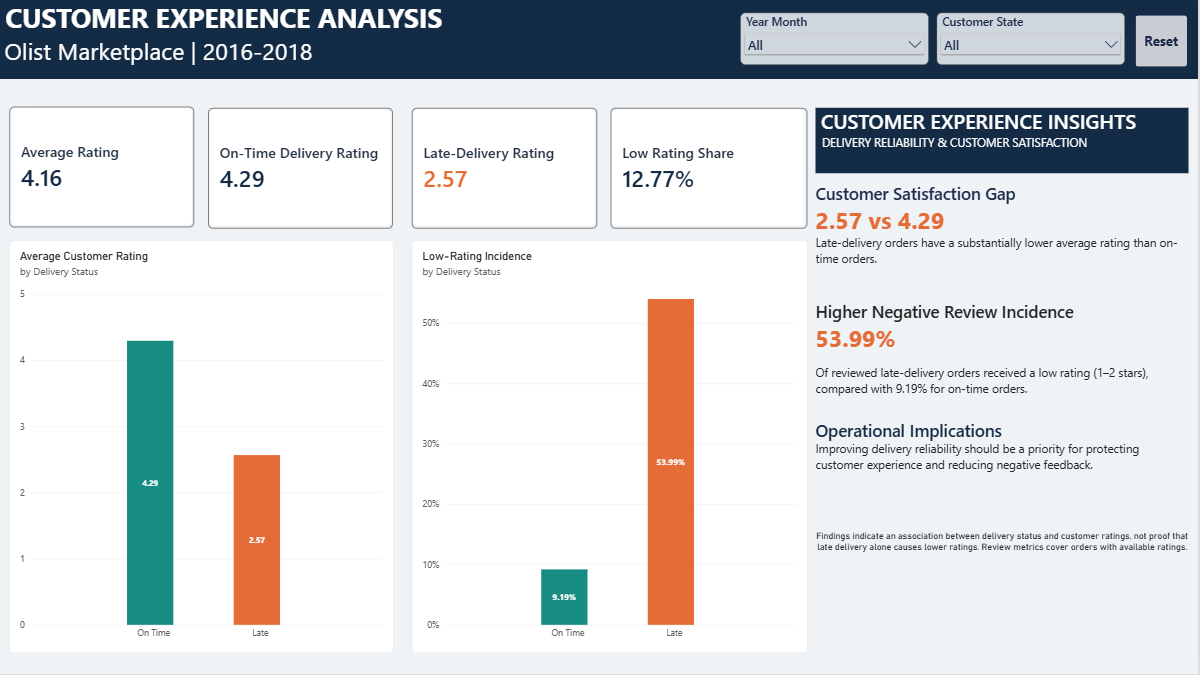

This screenshot's page, from the dashboard's own definition file:
{"tool":"powerbi","page":{"name":"Customer Experience Analysis","canvas":[1920,1080],"ordinal":2},"visuals":[{"type":"cardVisual","fields":{"Data":["_measure.On-Time Average Rating"]},"box":[336.6,173.7,296.4,193.5],"z":0},{"type":"cardVisual","fields":{"Data":["_measure.Average Review Score"]},"box":[18,172,296.4,193.5],"z":1000},{"type":"cardVisual","fields":{"Data":["_measure.Low Rating Share"]},"box":[980.8,173.7,314.9,193.6],"z":2000},{"type":"textbox","box":[0,0,1920.4,127.6],"z":3000},{"type":"cardVisual","fields":{"Data":["_measure.Late-Delivery Average Rating"]},"box":[662.3,173.7,296.8,193.6],"z":4000},{"type":"clusteredColumnChart","title":"Average Customer Rating","fields":{"Category":["order_performance.Delivery Status"],"Y":["_measure.Overall Customer Rating"]},"box":[18.1,385.5,615.3,660.5],"z":5000},{"type":"columnChart","title":"Low-Rating Incidence","fields":{"Category":["order_performance.Delivery Status"],"Y":["_measure.Low Rating Share by Status"]},"box":[662.3,385.5,633.4,660.5],"z":6000},{"type":"textbox","box":[1308.4,173.7,597.2,105],"z":7000},{"type":"textbox","box":[1307.5,292.5,597.5,635],"z":8000},{"type":"slicer","fields":{"Values":["order_performance.Year Month"]},"box":[1188.9,21.7,300.4,83.2],"z":9000},{"type":"slicer","fields":{"Values":["order_performance.customer_state"]},"box":[1502,21.7,300.4,83.2],"z":10000},{"type":"actionButton","box":[1820,25,82.5,82.5],"z":11000}]}

Visuals, with their boxes in screenshot pixels (x1, y1, x2, y2), scaled from the page's 1920x1080 canvas onto the 1200x675 screenshot:
cardVisual - _measure.On-Time Average Rating: <bbox>210, 109, 396, 230</bbox>
cardVisual - _measure.Average Review Score: <bbox>11, 108, 196, 228</bbox>
cardVisual - _measure.Low Rating Share: <bbox>613, 109, 810, 230</bbox>
textbox: <bbox>0, 0, 1199, 80</bbox>
cardVisual - _measure.Late-Delivery Average Rating: <bbox>414, 109, 599, 230</bbox>
"Average Customer Rating" clusteredColumnChart: <bbox>11, 241, 396, 654</bbox>
"Low-Rating Incidence" columnChart: <bbox>414, 241, 810, 654</bbox>
textbox: <bbox>818, 109, 1191, 174</bbox>
textbox: <bbox>817, 183, 1191, 580</bbox>
slicer - order_performance.Year Month: <bbox>743, 14, 931, 66</bbox>
slicer - order_performance.customer_state: <bbox>939, 14, 1126, 66</bbox>
actionButton: <bbox>1138, 16, 1189, 67</bbox>
